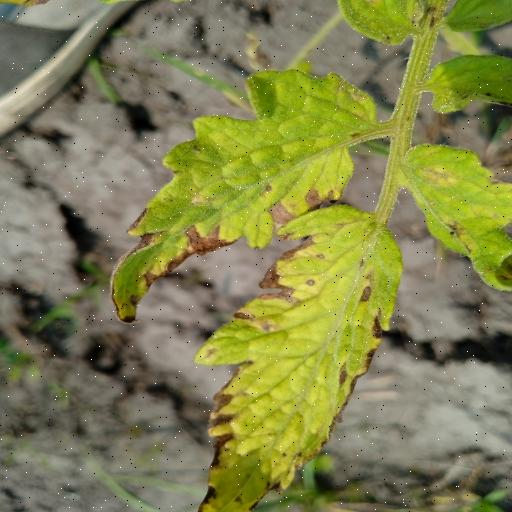Tomato_Brown_Spots: (110, 64, 390, 326), (196, 195, 409, 512), (397, 139, 512, 292)
